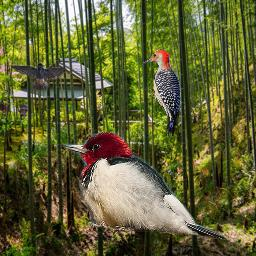Swallow: (8, 62, 67, 90)
Woodpecker: (60, 132, 228, 239), (142, 49, 181, 136)
